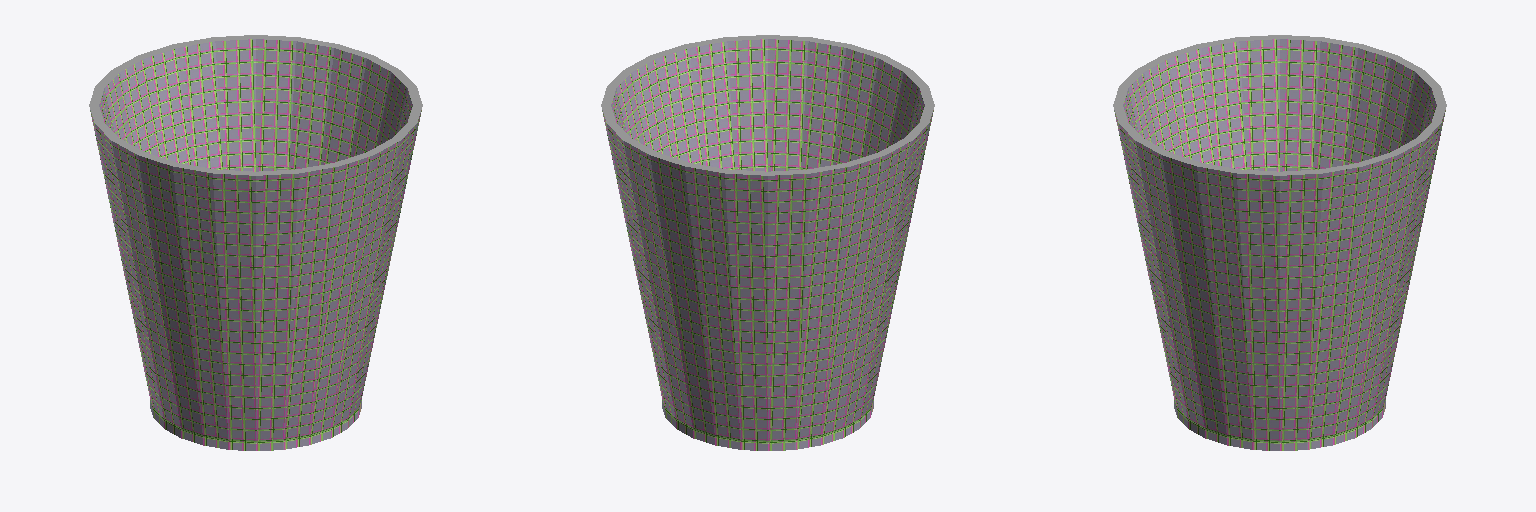
The picture shows the model from 3 angles: view 1: azimuth 30°, elevation 25°; view 2: azimuth 150°, elevation 25°; view 3: azimuth 270°, elevation 25°; orthographic projection.
Parts seen in each view (by area): view 1: Mesh1 Model; view 2: Mesh1 Model; view 3: Mesh1 Model.
Part boxes in pixels (x1,y1,x2,y2): Mesh1 Model: (89, 35, 422, 450); Mesh1 Model: (601, 35, 934, 450); Mesh1 Model: (1113, 35, 1446, 450).
Bounding box in the file's own units: 1 × 0.996 × 1.
Materials: 3 (1 with a texture image).